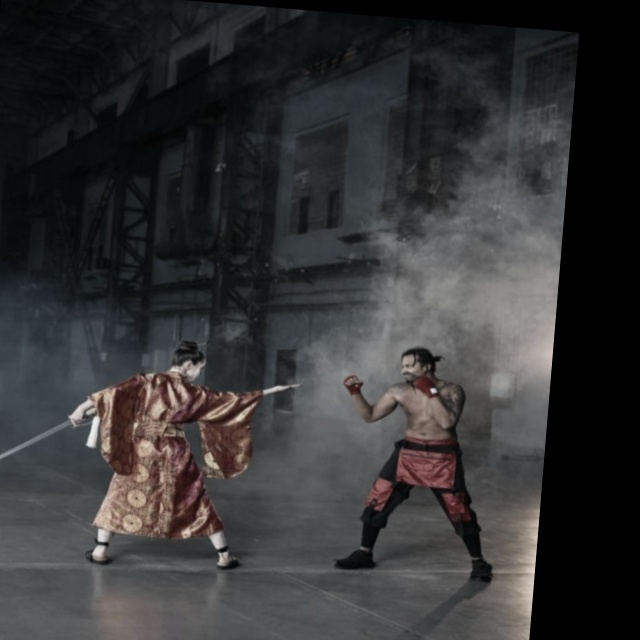Sharp-Object: (0, 393, 113, 485)
